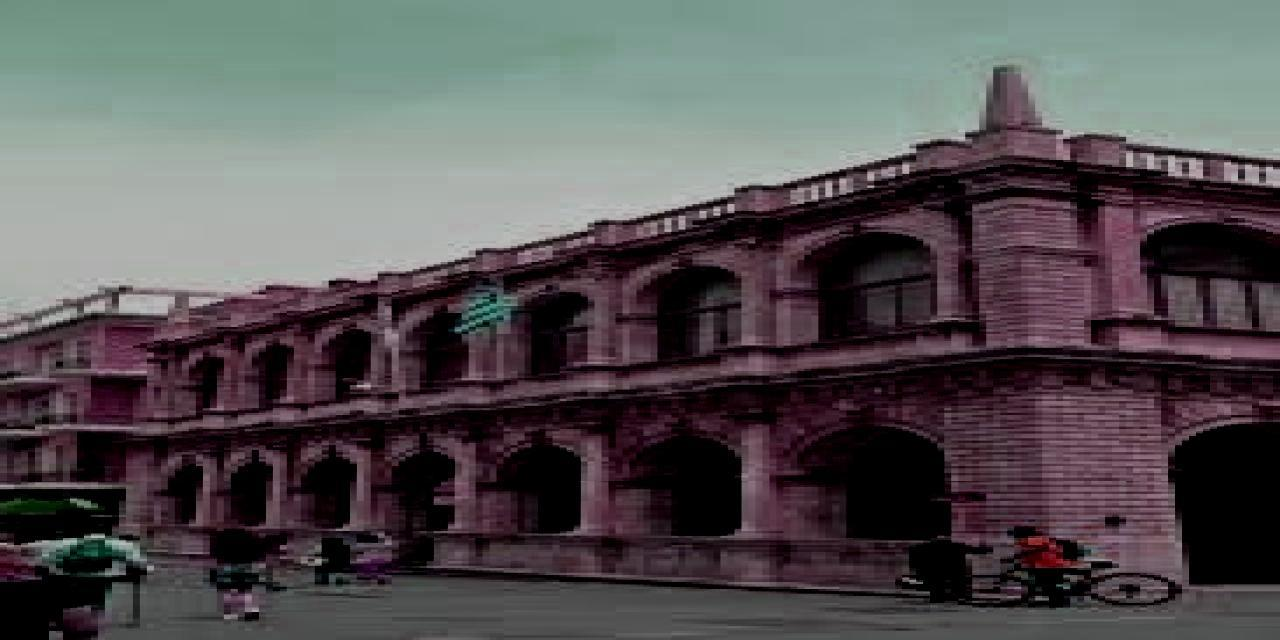Loggia: (139, 42, 1280, 595)
